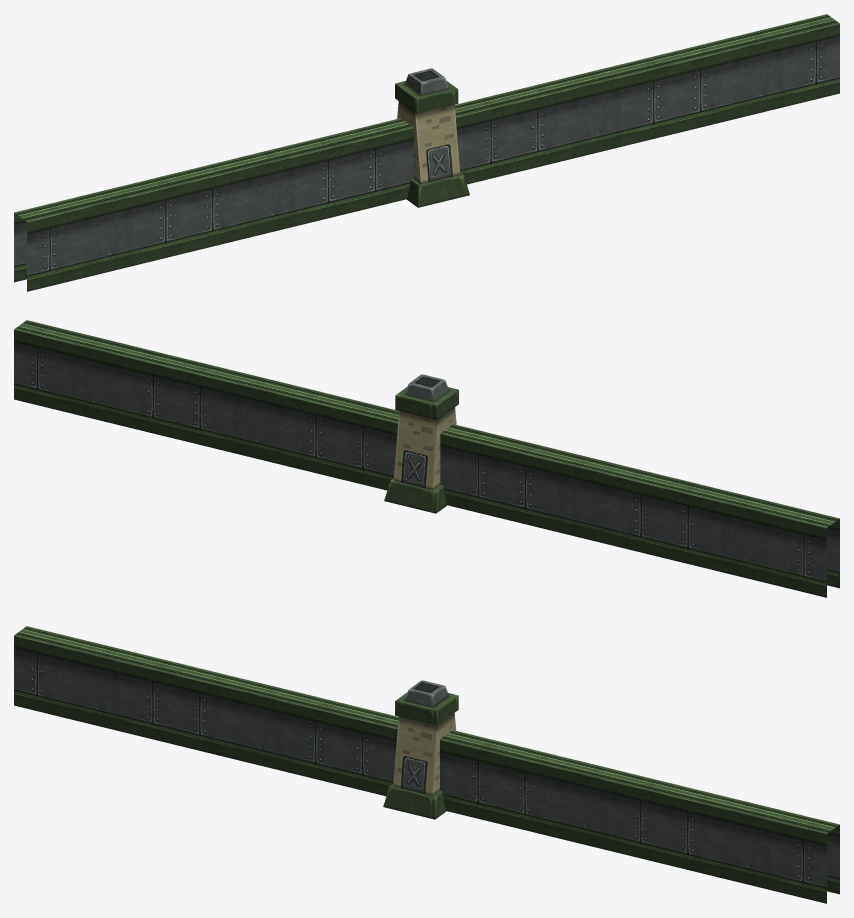
Rendered from wall_07.FBX.
3 views of the same model, one above another, from view 1: azimuth 30°, elevation 25°; view 2: azimuth 150°, elevation 25°; view 3: azimuth 330°, elevation 25° (orthographic).
Parts seen in each view (by area): view 1: wall_07; view 2: wall_07; view 3: wall_07.
Boxes of the visible parts, x1,y1,x2,y2 form: wall_07: [14, 14, 839, 291]; wall_07: [14, 320, 839, 597]; wall_07: [14, 626, 839, 903].
Size of the model in its own units: 3337 by 247 by 442.
